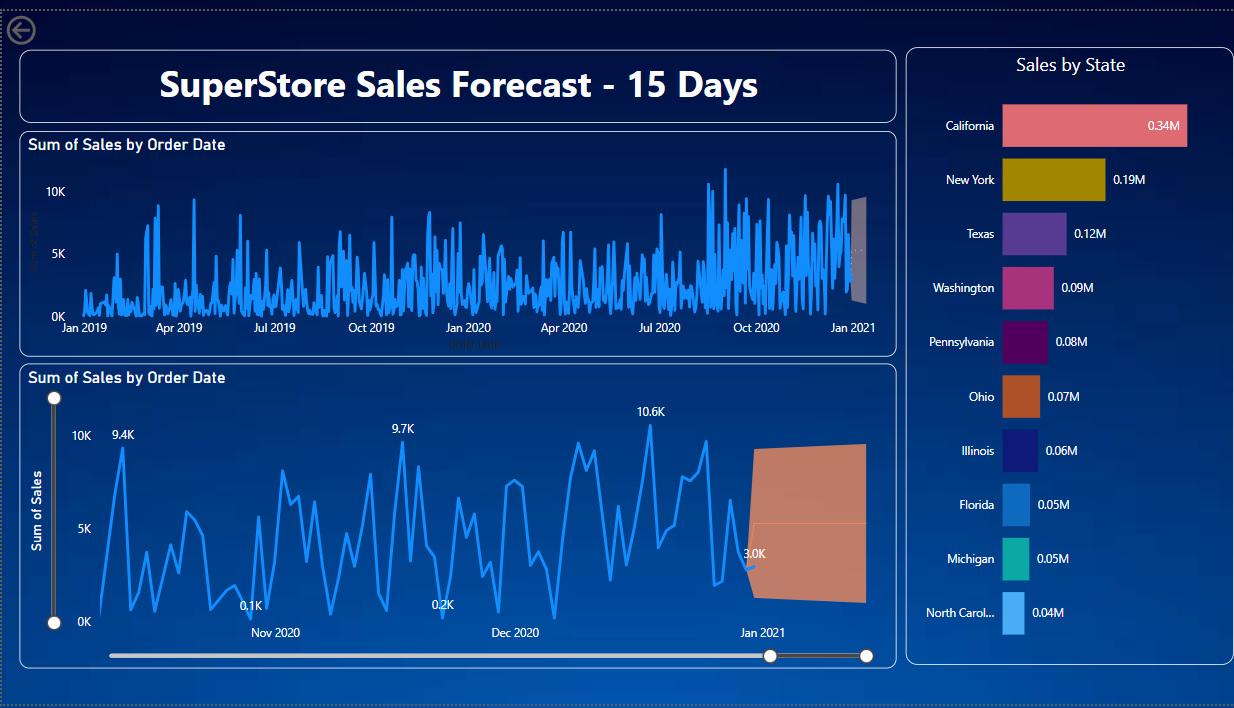

This screenshot's page, from the dashboard's own definition file:
{"tool":"powerbi","page":{"name":"Page 2","canvas":[1280,720],"ordinal":1},"visuals":[{"type":"lineChart","fields":{"Y":["Sum(SuperStore_Sales_Dataset.Sales)"],"Category":["SuperStore_Sales_Dataset.Order Date"]},"box":[18.3,124.7,911,234.8],"z":0},{"type":"actionButton","box":[0,0,100,40],"z":1},{"type":"lineChart","fields":{"Y":["Sum(SuperStore_Sales_Dataset.Sales)"],"Category":["SuperStore_Sales_Dataset.Order Date"]},"box":[18.3,365.6,911,316.7],"z":2},{"type":"clusteredBarChart","title":" Sales by State","fields":{"Y":["Sum(SuperStore_Sales_Dataset.Sales)"],"Category":["SuperStore_Sales_Dataset.State"]},"box":[939.1,37.9,341.2,642],"z":3},{"type":"textbox","box":[18.3,40.4,911,75.8],"z":4}]}

Visuals, with their boxes in screenshot pixels (x1, y1, x2, y2), scaled from the page's 1280x720 canvas onto the 1234x708 screenshot:
lineChart - Sum(SuperStore_Sales_Dataset.Sales) x SuperStore_Sales_Dataset.Order Date: left=18, top=123, right=896, bottom=354
actionButton: left=0, top=0, right=96, bottom=39
lineChart - Sum(SuperStore_Sales_Dataset.Sales) x SuperStore_Sales_Dataset.Order Date: left=18, top=360, right=896, bottom=671
" Sales by State" clusteredBarChart: left=905, top=37, right=1233, bottom=669
textbox: left=18, top=40, right=896, bottom=114
